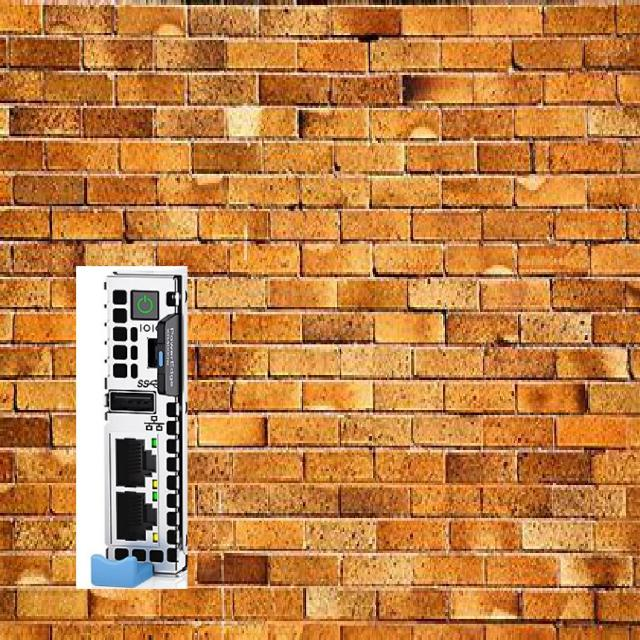Server: (76, 266, 186, 588)
